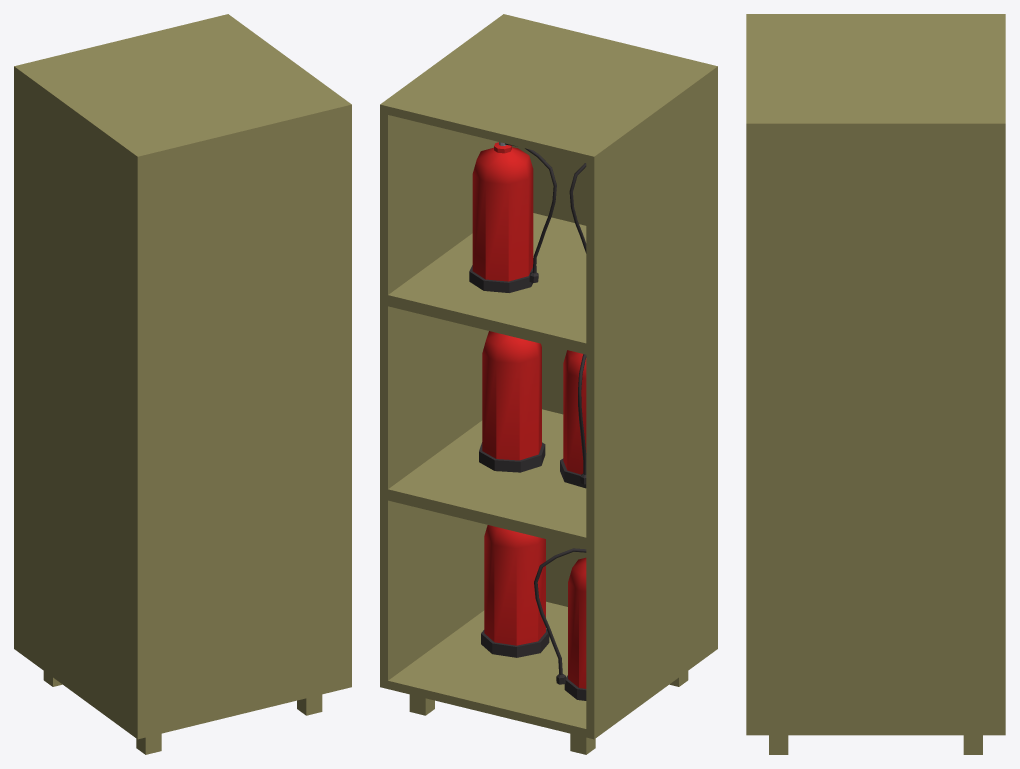
The model's file is g_o_fireExtinguisherStorage.fbx.
3 renders of one model, left to right at view 1: azimuth 30°, elevation 25°; view 2: azimuth 150°, elevation 25°; view 3: azimuth 270°, elevation 25°, orthographic. The views are drawn at different scales.
Parts seen in each view (by area): view 1: fire_extinguisher_storage2; view 2: fire_extinguisher_storage2; view 3: fire_extinguisher_storage2.
Part boxes in pixels (box(x1,y1,x2,y2)): fire_extinguisher_storage2: box(14, 14, 351, 754); fire_extinguisher_storage2: box(380, 14, 717, 754); fire_extinguisher_storage2: box(746, 14, 1005, 754).
Bounding box in the file's own units: 0.8 × 2.18 × 0.8.
